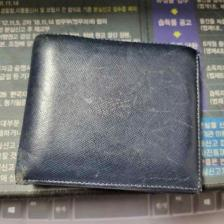wallet: (13, 30, 203, 198)
